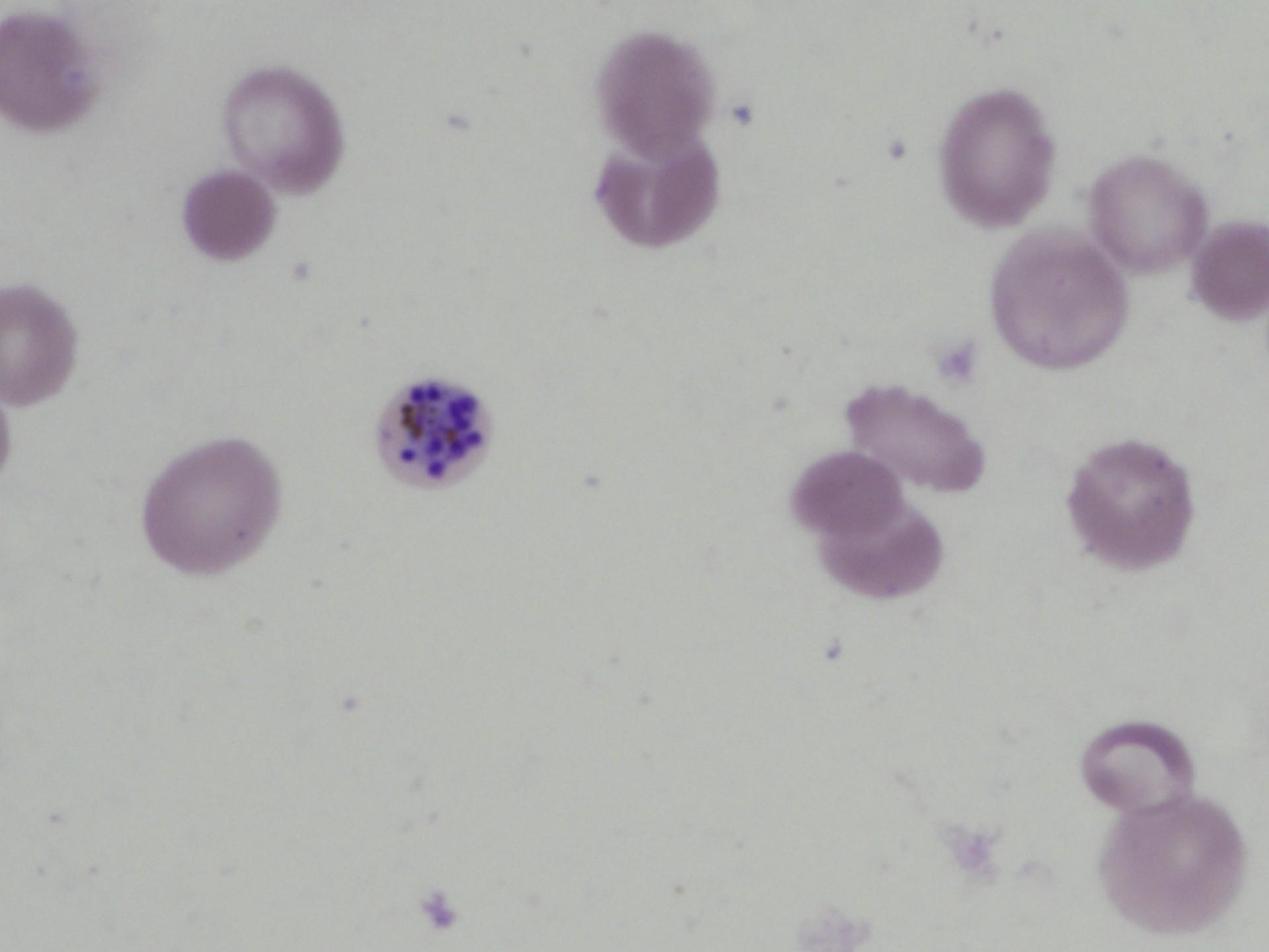Infected: (375, 373, 495, 497)
Uninfected: (1102, 794, 1237, 940), (996, 217, 1121, 372), (145, 437, 275, 574), (850, 384, 981, 504), (936, 93, 1052, 226), (231, 65, 341, 203), (1075, 435, 1185, 564), (601, 27, 702, 163), (1088, 153, 1201, 272), (595, 139, 714, 242), (824, 494, 939, 595), (1077, 721, 1194, 817), (795, 452, 908, 541), (0, 285, 72, 410), (1190, 217, 1269, 329), (181, 170, 270, 262)
